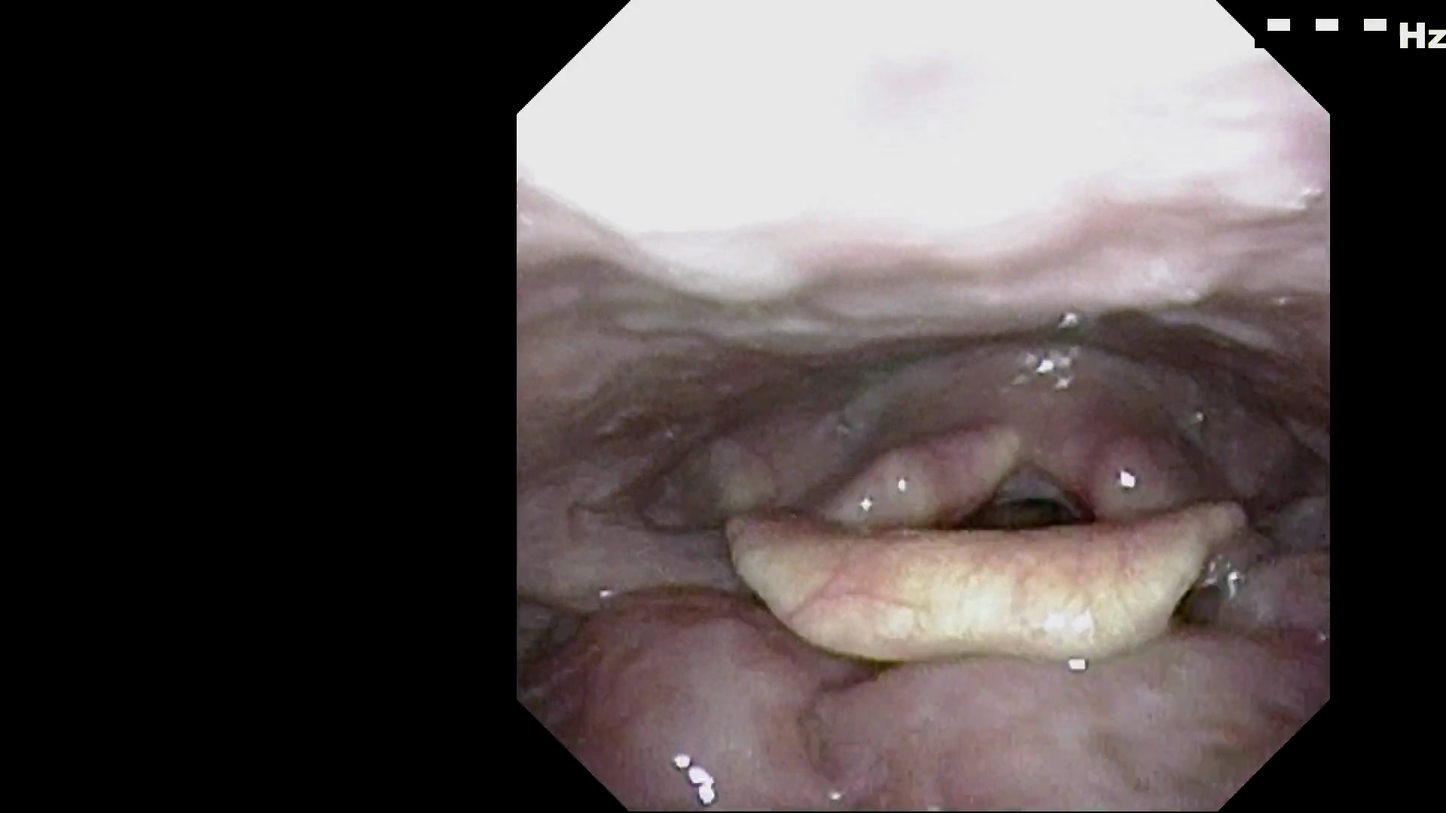epiglottis: (703, 493, 1245, 632)
